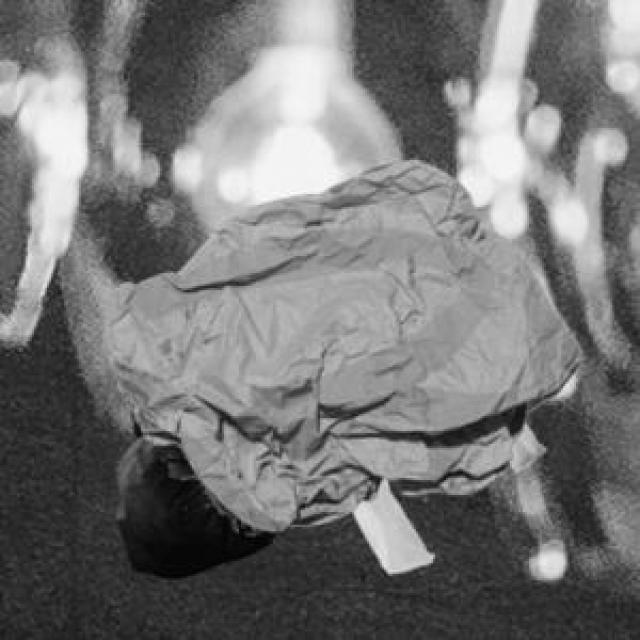miscellaneous trash: (111, 403, 271, 574)
paper: (98, 156, 578, 527)
